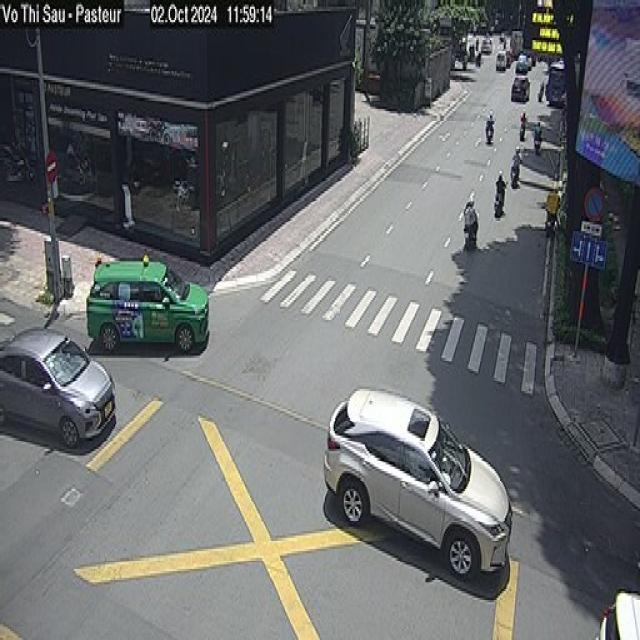car: (322, 387, 512, 578), (0, 324, 116, 449), (86, 254, 209, 356)
person: (462, 193, 478, 249), (495, 169, 506, 213), (510, 144, 521, 187), (485, 109, 494, 142), (534, 120, 541, 153), (519, 111, 526, 140)
